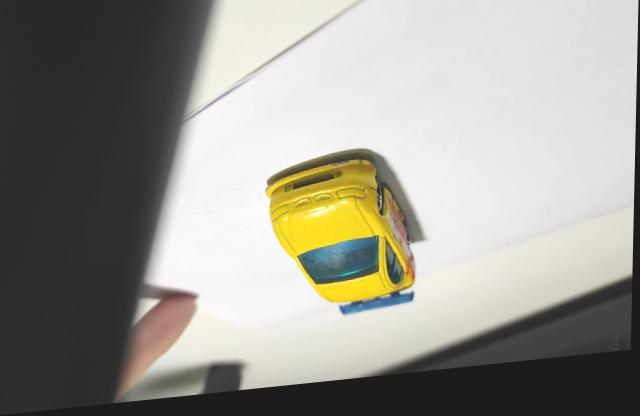02_OZSOME: (265, 166, 418, 323)
